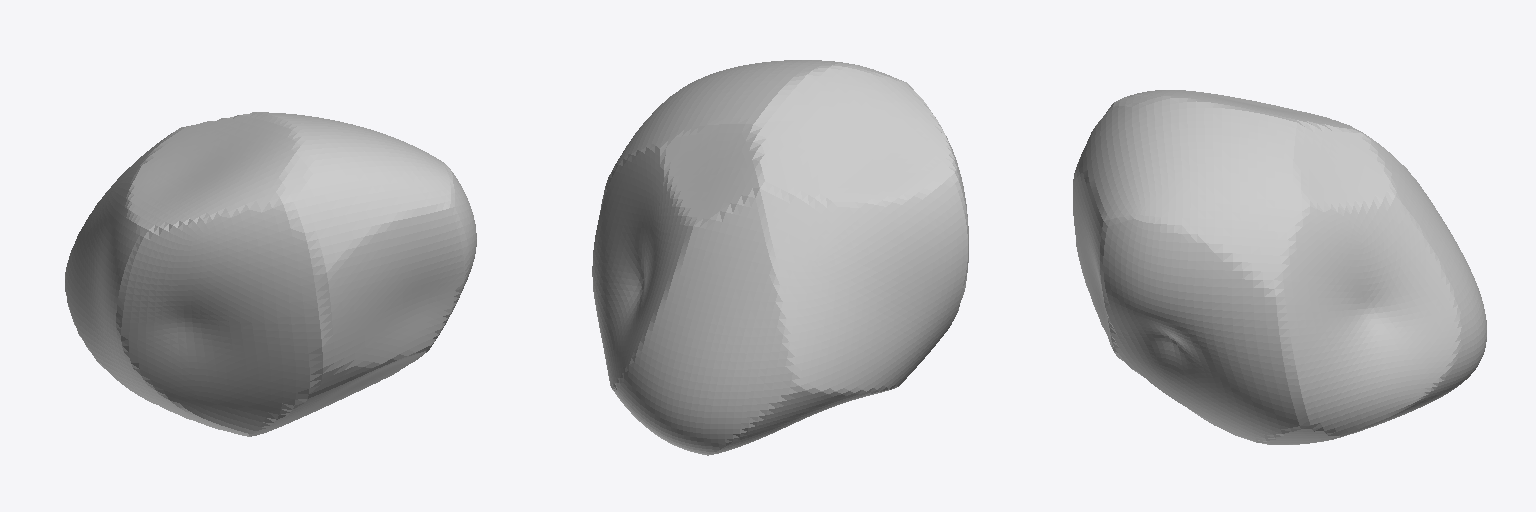
The model's file is rock.obj.
The picture shows the model from 3 angles: view 1: azimuth 30°, elevation 25°; view 2: azimuth 150°, elevation 25°; view 3: azimuth 270°, elevation 25°; orthographic projection.
Visible parts, largest first — view 1: Cube; view 2: Cube; view 3: Cube.
Part boxes in pixels (bbox=[...]): Cube: bbox=[65, 112, 476, 436]; Cube: bbox=[592, 60, 968, 455]; Cube: bbox=[1073, 90, 1486, 444].
Size of the model in its own units: 2.03 by 1.76 by 2.15.